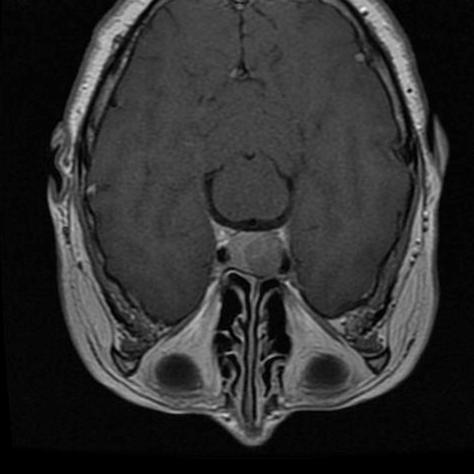Tumour-Pituitary: (209, 221, 298, 276)
